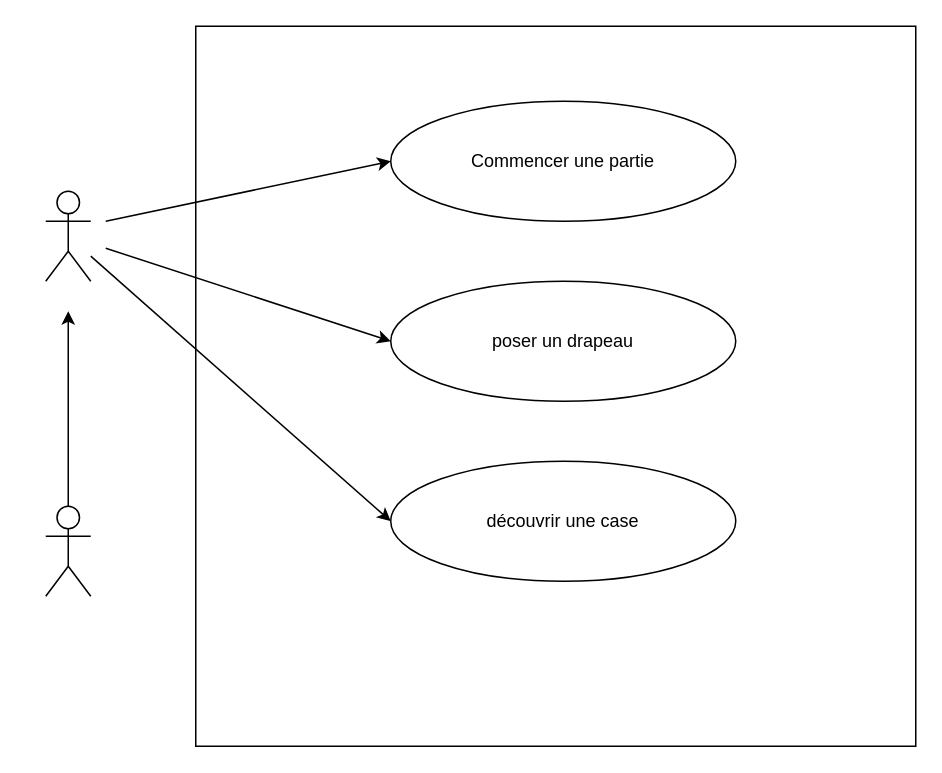
Image size: 942x773. Some labels were removed from this diagram. Here are the shapes that lost their labels. From the top down, the box of each, then its label:
(44, 190, 91, 281): Ordinateur
(44, 505, 91, 596): joueur
